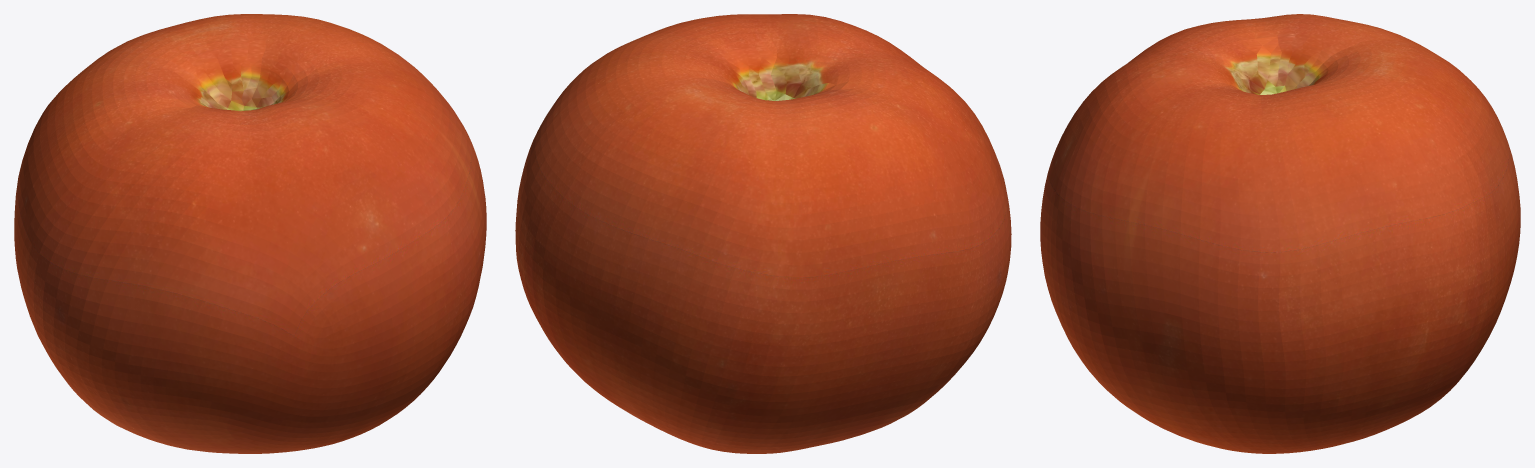
Rendered from tomato.glb.
The picture shows the model from 3 angles, left to right: view 1: azimuth 30°, elevation 25°; view 2: azimuth 150°, elevation 25°; view 3: azimuth 270°, elevation 25°; orthographic projection.
Parts seen in each view (by area): view 1: Tomato_01; view 2: Tomato_01; view 3: Tomato_01.
Boxes of the visible parts, x1=… form: Tomato_01: x1=14, y1=14, x2=486, y2=453; Tomato_01: x1=515, y1=14, x2=1011, y2=453; Tomato_01: x1=1040, y1=14, x2=1520, y2=453.
Bounding box in the file's own units: 0.1832 × 0.1472 × 0.1766.
Materials: 1 (1 with a texture image).
